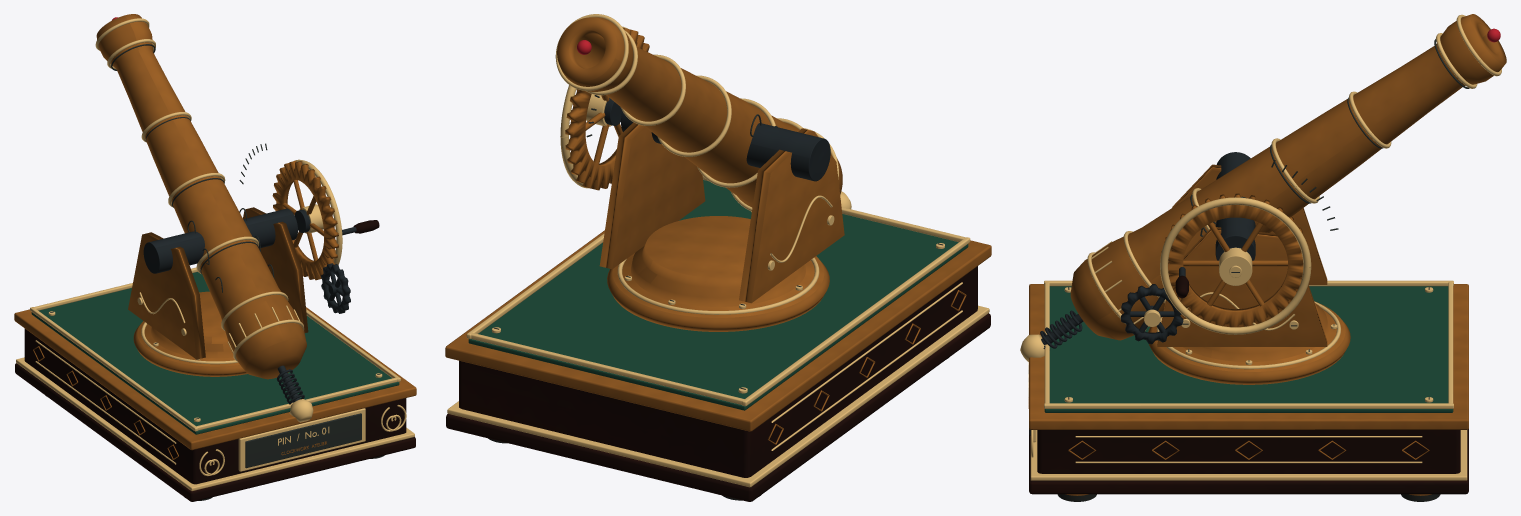
File: PinLauncher.fbx
3 views of the same model, side by side, from view 1: azimuth 30°, elevation 25°; view 2: azimuth 150°, elevation 25°; view 3: azimuth 270°, elevation 25° (orthographic). The views are drawn at different scales.
Visible parts, largest first — view 1: Barrel_TaperedBrassShell, Enamel_Deck, Mahogany_Platform, Plinth_TopBead, CarriageCheek_-1, Plinth_LowerOgee, Turret_TurnedSocket, MakerPlaque_Enamel, Brass_Plinth, Elevation_Trunnion, ElevationGear_ToothedRim, CarriageCheek_1 (+8 smaller); view 2: Enamel_Deck, Mahogany_Platform, Turret_TurnedSocket, Barrel_TaperedBrassShell, Plinth_TopBead, CarriageCheek_-1, CarriageCheek_1, Plinth_LowerOgee, Brass_Plinth, Elevation_Trunnion, ElevationGear_ToothedRim, DeckEdge_X_-0.087 (+10 smaller); view 3: Enamel_Deck, Barrel_TaperedBrassShell, Mahogany_Platform, Plinth_TopBead, CarriageCheek_1, Plinth_LowerOgee, Turret_TurnedSocket, ElevationGear_ToothedRim, Brass_Plinth, Handwheel_PolishedRim, DeckEdge_X_0.087, Elevation_Trunnion (+10 smaller).
Boxes of the visible parts, x1,y1,x2,y2 form: Barrel_TaperedBrassShell: (96,14,306,379); Enamel_Deck: (31,272,399,434); Mahogany_Platform: (24,328,406,484); Plinth_TopBead: (14,307,416,450); CarriageCheek_-1: (128,232,205,359); Plinth_LowerOgee: (15,363,415,501); Turret_TurnedSocket: (133,291,247,376); MakerPlaque_Enamel: (245,413,361,468); Brass_Plinth: (16,357,414,491); Elevation_Trunnion: (143,208,297,273); ElevationGear_ToothedRim: (272,160,338,280); CarriageCheek_1: (243,207,308,332); Enamel_Deck: (468,180,968,410); Mahogany_Platform: (459,266,977,477); Turret_TurnedSocket: (607,216,829,331); Barrel_TaperedBrassShell: (557,17,842,211); Plinth_TopBead: (445,230,991,431); CarriageCheek_-1: (739,128,844,303); CarriageCheek_1: (599,122,705,269); Plinth_LowerOgee: (446,313,990,501); Brass_Plinth: (447,305,989,487); Elevation_Trunnion: (621,111,830,181); ElevationGear_ToothedRim: (565,27,649,190); DeckEdge_X_-0.087: (742,237,970,406); Enamel_Deck: (1044,286,1453,412); Barrel_TaperedBrassShell: (1070,14,1506,340); Mahogany_Platform: (1037,430,1460,473); Plinth_TopBead: (1029,284,1468,429); CarriageCheek_1: (1157,227,1327,346); Plinth_LowerOgee: (1029,428,1468,494); Turret_TurnedSocket: (1148,301,1350,384); ElevationGear_ToothedRim: (1161,193,1307,327); Brass_Plinth: (1030,430,1467,480); Handwheel_PolishedRim: (1160,197,1311,334); DeckEdge_X_0.087: (1044,403,1453,408); Elevation_Trunnion: (1215,152,1255,260).
Bounding box in the file's own units: 0.213 × 0.2807 × 0.2918.
8 materials, 3 textured.
